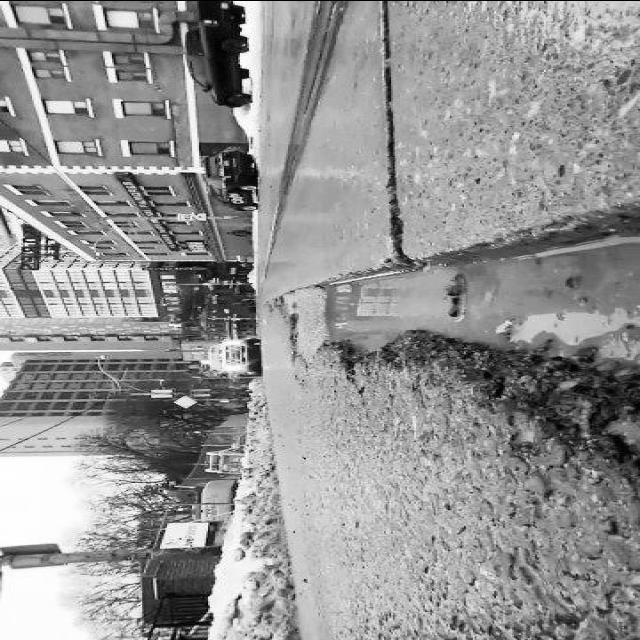lubang: (256, 209, 638, 463)
